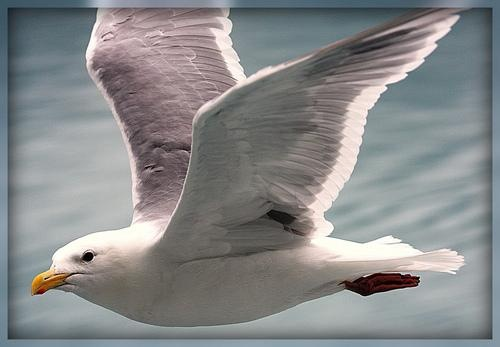bird: (26, 1, 475, 330)
